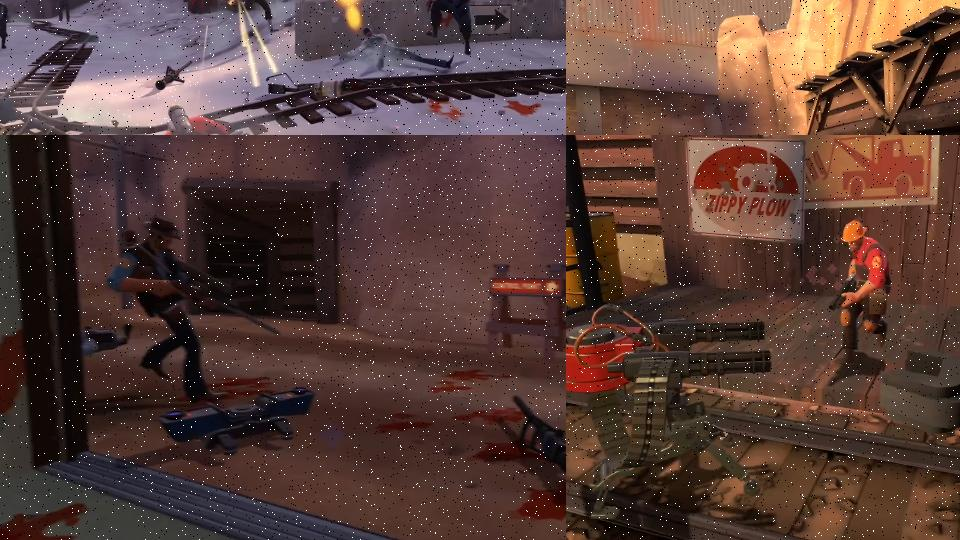Enemy: (105, 211, 243, 404), (827, 219, 894, 376), (340, 27, 454, 73), (145, 104, 293, 135), (425, 0, 478, 55), (230, 0, 280, 32), (0, 0, 9, 49), (55, 0, 71, 23)
